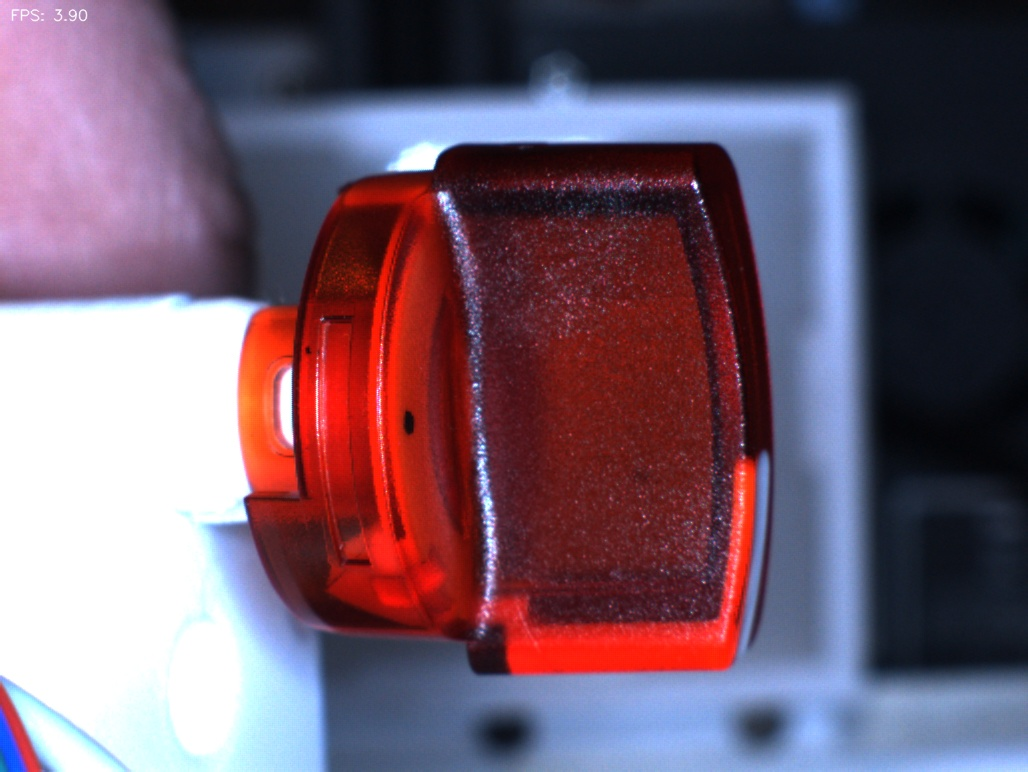PointNoir: (379, 381, 439, 461)
